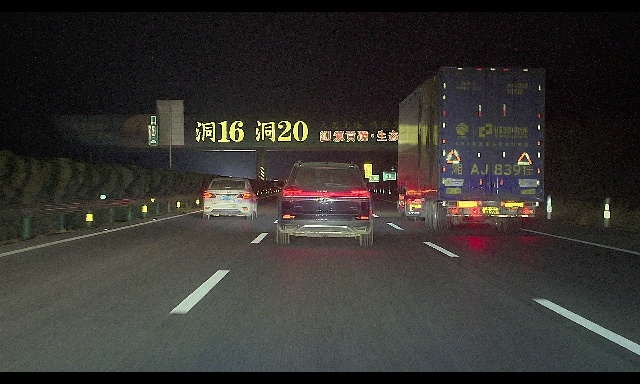car: (274, 160, 375, 246), (202, 177, 259, 220)
truck: (391, 66, 545, 233)
